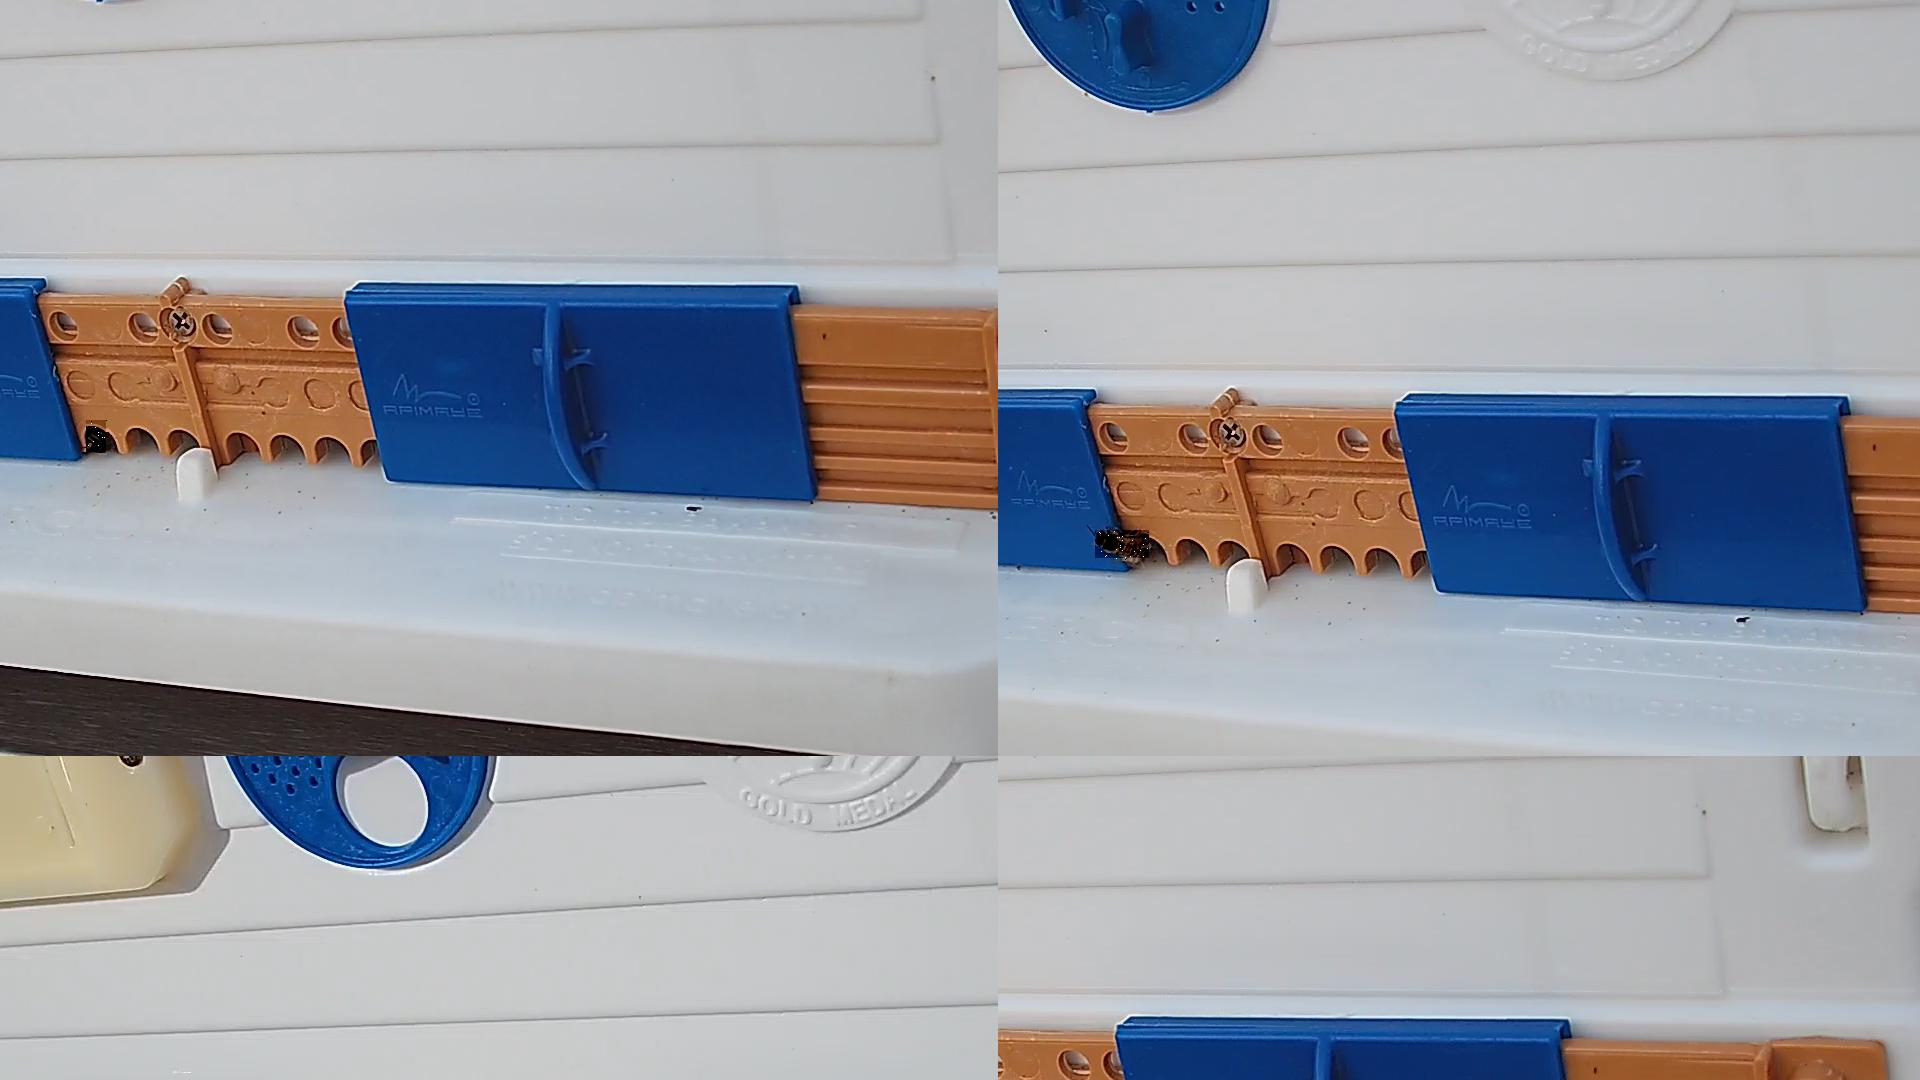bee: (1096, 531, 1150, 562), (87, 421, 109, 454)
